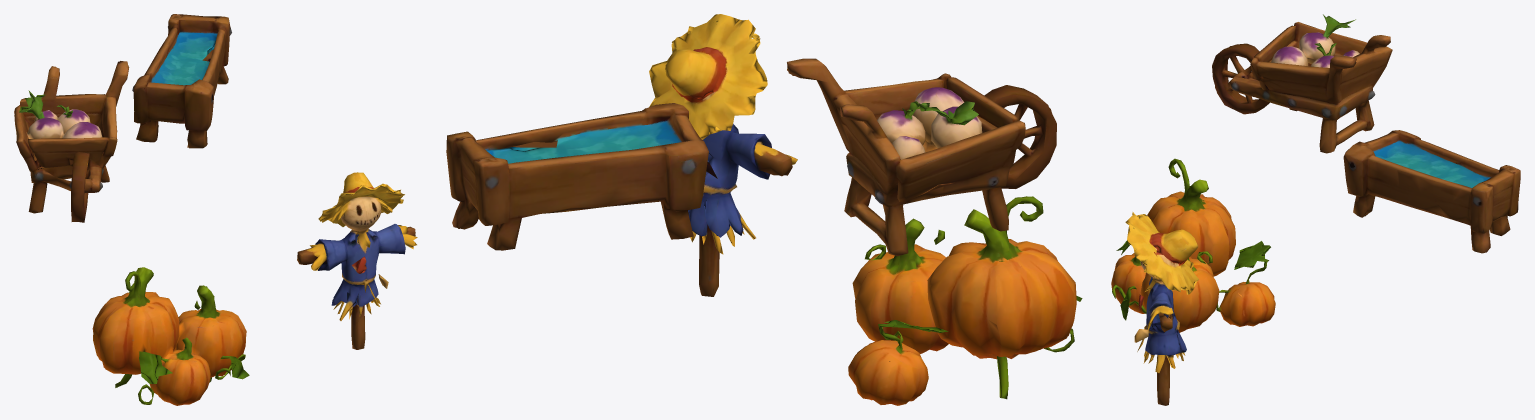
3 views of the same model, side by side, from view 1: azimuth 30°, elevation 25°; view 2: azimuth 150°, elevation 25°; view 3: azimuth 270°, elevation 25° (orthographic). The views are drawn at different scales.
Visible parts, largest first — view 1: world; view 2: world; view 3: world.
Part boxes in pixels (box(x1,y1,x2,y2)): world: box(14, 14, 417, 405); world: box(446, 14, 1082, 405); world: box(1111, 14, 1520, 405).
Size of the model in its own units: 0.9892 by 0.7319 by 0.9953.
Materials: 1 (1 with a texture image).
